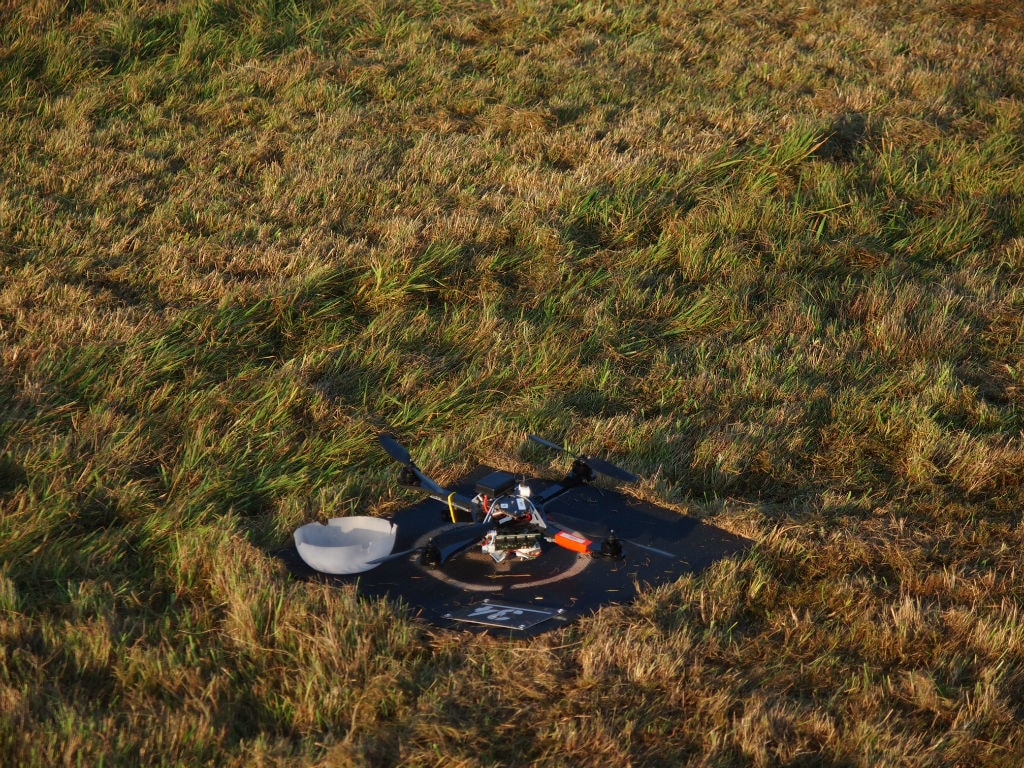drone: (360, 430, 665, 576)
